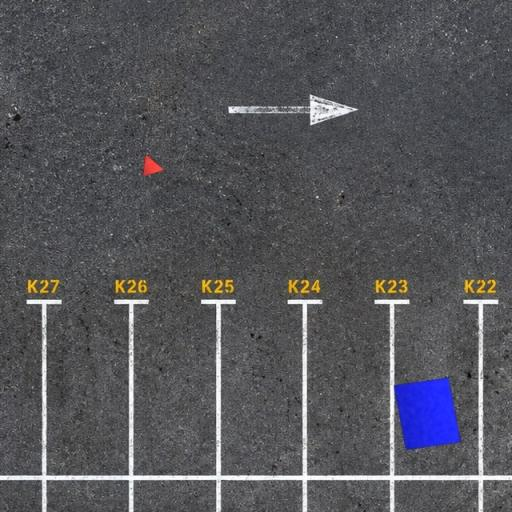BLUE_SQUARE: (392, 377, 462, 450)
